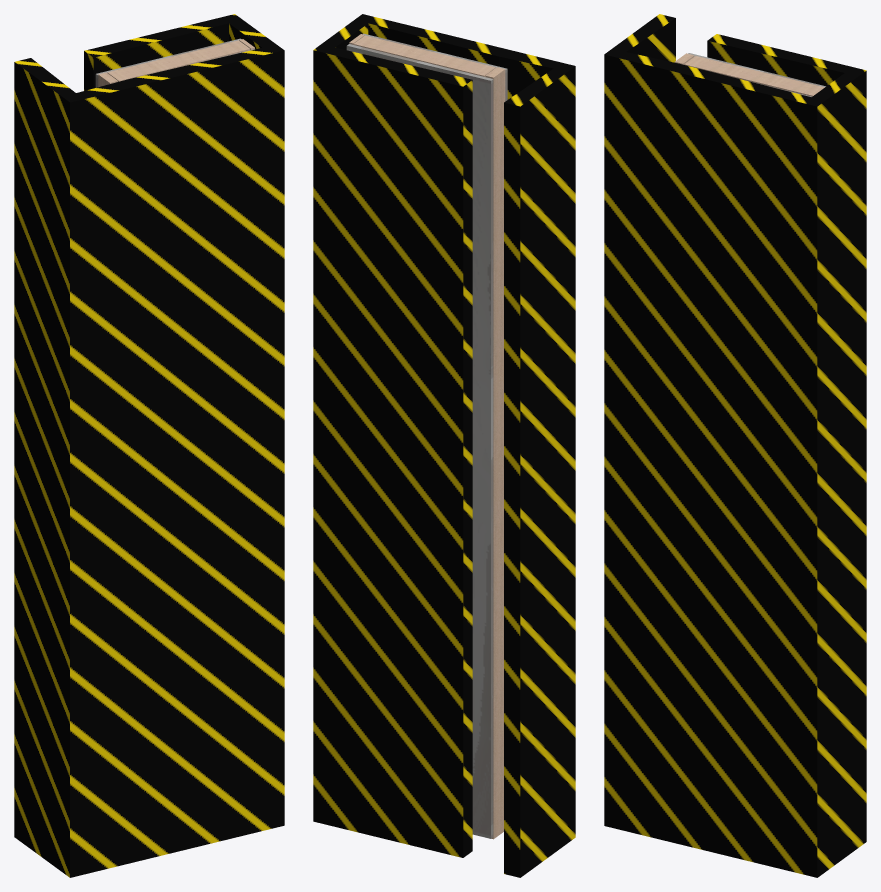
Rendered from WALLSET_V.FBX.
3 renders of one model, left to right at view 1: azimuth 30°, elevation 25°; view 2: azimuth 150°, elevation 25°; view 3: azimuth 330°, elevation 25°, orthographic.
Parts seen in each view (by area): view 1: SELECTOR_17, FRAME_201; view 2: SELECTOR_17, Object001, FRAME_201; view 3: SELECTOR_17, FRAME_201.
Boxes of the visible parts, left/top/right/bottom form: SELECTOR_17: left=14, top=14, right=284, bottom=877; FRAME_201: left=98, top=39, right=254, bottom=86; SELECTOR_17: left=313, top=14, right=575, bottom=877; Object001: left=346, top=33, right=507, bottom=838; FRAME_201: left=349, top=34, right=505, bottom=839; SELECTOR_17: left=604, top=14, right=866, bottom=877; FRAME_201: left=674, top=53, right=824, bottom=96.
Bounding box in the file's own units: 26.12 × 90.28 × 11.75.
